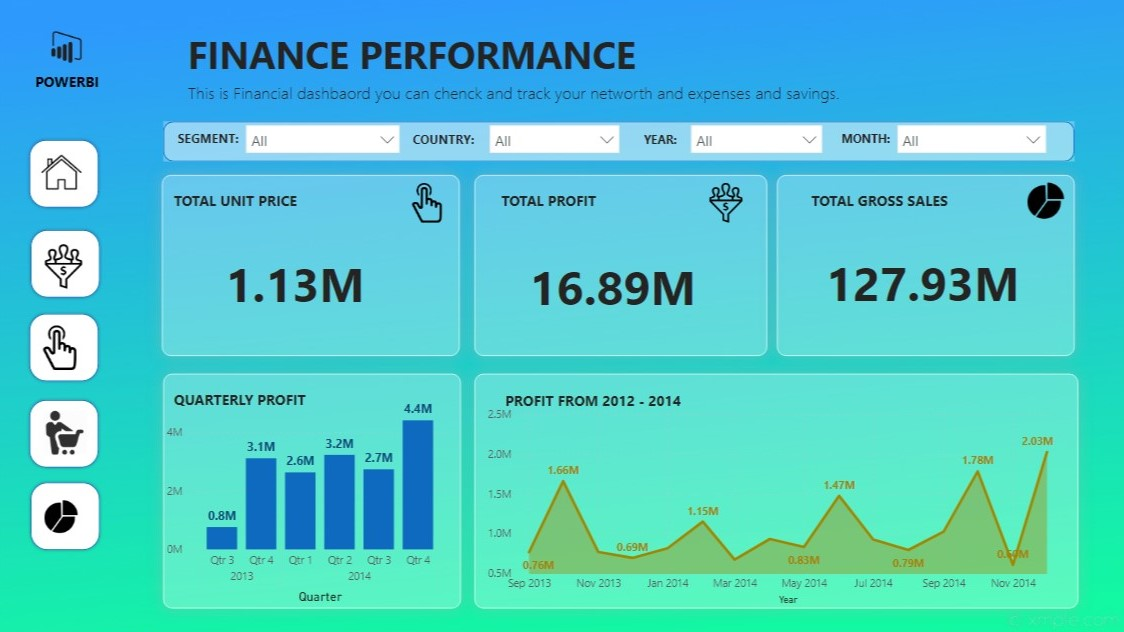

What the dashboard file says about the page in this screenshot:
{"tool":"powerbi","page":{"name":"Finance Performance","canvas":[1280,720],"ordinal":0},"visuals":[{"type":"shape","box":[35.2,154.3,86,84.7],"z":0},{"type":"image","box":[36.3,18.8,90,69.9],"z":1000},{"type":"shape","box":[36.3,255.3,86,84.7],"z":1000,"group":"g2"},{"type":"shape","box":[34.9,350.7,86,84.7],"z":2000},{"type":"shape","box":[34.9,448.8,86,84.7],"z":3000,"group":"g3"},{"type":"group","id":"g1","title":"Group 1","box":[36.3,541.6,86,84.7],"z":3000},{"type":"image","box":[44.1,363.1,60.5,60.5],"z":4000},{"type":"image","box":[49.4,459.8,60.5,60.5],"z":4000,"group":"g3"},{"type":"shape","box":[36.3,541.6,86,84.7],"z":4000,"group":"g1"},{"type":"image","box":[36,159.9,80.6,69.9],"z":5000},{"type":"image","box":[48.1,270.4,60.5,60.5],"z":5000,"group":"g2"},{"type":"group","id":"g2","title":"Group 4","box":[36.3,255.3,86,84.7],"z":6000},{"type":"group","id":"g3","title":"Group 2","box":[34.9,448.8,86,84.7],"z":7000},{"type":"textbox","box":[41.7,76.6,149.2,34.9],"z":8000},{"type":"textbox","box":[213.7,26.9,532.1,67.2],"z":9000},{"type":"image","box":[45.4,554,60.5,60.5],"z":9000,"group":"g1"},{"type":"textbox","box":[213.6,87.7,888.3,75],"z":10000},{"type":"shape","box":[191,137.2,1031.2,45.3],"z":11000},{"type":"shape","box":[189.5,198,336.7,205.1],"z":12000},{"type":"shape","box":[543.2,198,331,205.1],"z":13000},{"type":"shape","box":[885.5,198,336.7,205.1],"z":14000},{"type":"shape","box":[191,422.9,336.7,265.9],"z":15000},{"type":"shape","box":[543.2,422.9,683.2,265.9],"z":16000},{"type":"slicer","fields":{"Values":["financials.Segment"]},"box":[274.5,131.9,194.1,45.5],"z":17000},{"type":"slicer","fields":{"Values":["financials.Country"]},"box":[550.5,131.9,166.8,45.5],"z":18000},{"type":"slicer","fields":{"Values":["financials.Date.Variation.Date Hierarchy.Year"]},"box":[778,131.9,168.3,45.5],"z":19000},{"type":"slicer","fields":{"Values":["financials.Date.Variation.Date Hierarchy.Month"]},"box":[1011.6,131.9,188.1,45.5],"z":20000},{"type":"textbox","box":[201.7,141,92.5,37.9],"z":21000},{"type":"textbox","box":[468.6,142.6,100.1,34.9],"z":22000},{"type":"textbox","box":[729.5,144.1,60.7,31.8],"z":23000},{"type":"textbox","box":[953.9,142.6,80.4,44],"z":24000},{"type":"card","fields":{"Values":["Sum(financials.Units Sold)"]},"box":[191.1,280.6,298.8,78.9],"z":25000},{"type":"card","fields":{"Values":["Sum(financials.Profit)"]},"box":[550.5,283.6,298.8,78.9],"z":26000},{"type":"card","fields":{"Values":["Sum(financials.Gross Sales)"]},"box":[900.9,279.1,298.8,78.9],"z":27000},{"type":"textbox","box":[198.7,210.8,172.9,34.9],"z":28000},{"type":"textbox","box":[568.7,210.8,150.1,34.9],"z":29000},{"type":"textbox","box":[919.1,210.8,238.1,34.9],"z":30000},{"type":"image","box":[465.6,201.7,48.5,54.6],"z":31000},{"type":"image","box":[790.1,201.7,72.8,54.6],"z":32000},{"type":"image","box":[1157.2,175.9,65.2,103.1],"z":33000},{"type":"clusteredColumnChart","fields":{"Y":["Sum(financials.Profit)"],"Category":["financials.Date.Variation.Date Hierarchy.Year","financials.Date.Variation.Date Hierarchy.Quarter"]},"box":[189.6,436.8,330.6,251.8],"z":34000},{"type":"textbox","box":[198.7,435.3,189.6,34.9],"z":35000},{"type":"textbox","box":[573.3,436.8,254.8,34.9],"z":36000},{"type":"areaChart","fields":{"Category":["financials.Date.Variation.Date Hierarchy.Year","financials.Date.Variation.Date Hierarchy.Month"],"Y":["Sum(financials.Profit)"]},"box":[553.6,453.5,668.8,235.1],"z":36001}]}

Visuals, with their boxes in screenshot pixels (x1, y1, x2, y2), scaled from the page's 1280x720 canvas onto the 1124x632 screenshot:
shape: l=31, t=135, r=106, b=210
image: l=32, t=17, r=111, b=78
shape: l=32, t=224, r=107, b=298
shape: l=31, t=308, r=106, b=382
shape: l=31, t=394, r=106, b=468
"Group 1" group: l=32, t=475, r=107, b=550
image: l=39, t=319, r=92, b=372
image: l=43, t=404, r=97, b=457
shape: l=32, t=475, r=107, b=550
image: l=32, t=140, r=102, b=202
image: l=42, t=237, r=95, b=290
"Group 4" group: l=32, t=224, r=107, b=298
"Group 2" group: l=31, t=394, r=106, b=468
textbox: l=37, t=67, r=168, b=98
textbox: l=188, t=24, r=655, b=83
image: l=40, t=486, r=93, b=539
textbox: l=188, t=77, r=968, b=143
shape: l=168, t=120, r=1073, b=160
shape: l=166, t=174, r=462, b=354
shape: l=477, t=174, r=768, b=354
shape: l=778, t=174, r=1073, b=354
shape: l=168, t=371, r=463, b=605
shape: l=477, t=371, r=1077, b=605
slicer - financials.Segment: l=241, t=116, r=411, b=156
slicer - financials.Country: l=483, t=116, r=630, b=156
slicer - financials.Date.Variation.Date Hierarchy.Year: l=683, t=116, r=831, b=156
slicer - financials.Date.Variation.Date Hierarchy.Month: l=888, t=116, r=1053, b=156
textbox: l=177, t=124, r=258, b=157
textbox: l=411, t=125, r=499, b=156
textbox: l=641, t=126, r=694, b=154
textbox: l=838, t=125, r=908, b=164
card - Sum(financials.Units Sold): l=168, t=246, r=430, b=316
card - Sum(financials.Profit): l=483, t=249, r=746, b=318
card - Sum(financials.Gross Sales): l=791, t=245, r=1053, b=314
textbox: l=174, t=185, r=326, b=216
textbox: l=499, t=185, r=631, b=216
textbox: l=807, t=185, r=1016, b=216
image: l=409, t=177, r=451, b=225
image: l=694, t=177, r=758, b=225
image: l=1016, t=154, r=1073, b=245
clusteredColumnChart - Sum(financials.Profit) x financials.Date.Variation.Date Hierarchy.Year: l=166, t=383, r=457, b=604
textbox: l=174, t=382, r=341, b=413
textbox: l=503, t=383, r=727, b=414
areaChart - financials.Date.Variation.Date Hierarchy.Year x financials.Date.Variation.Date Hierarchy.Month: l=486, t=398, r=1073, b=604
